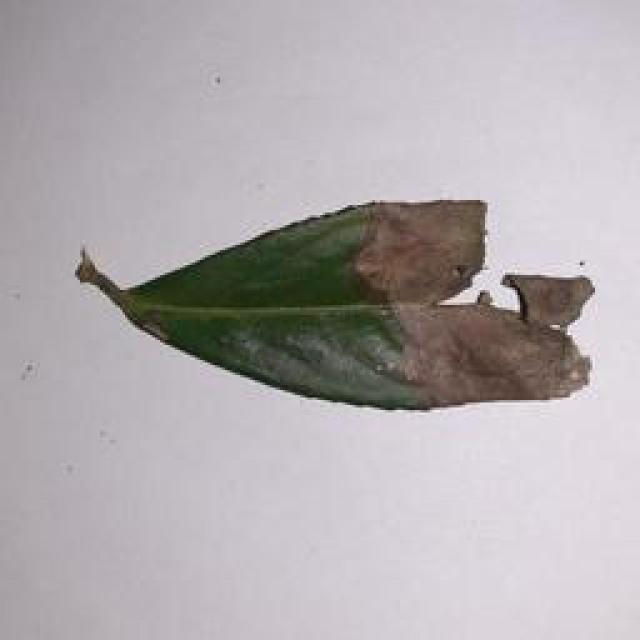Brown Blight: (70, 187, 603, 419)
